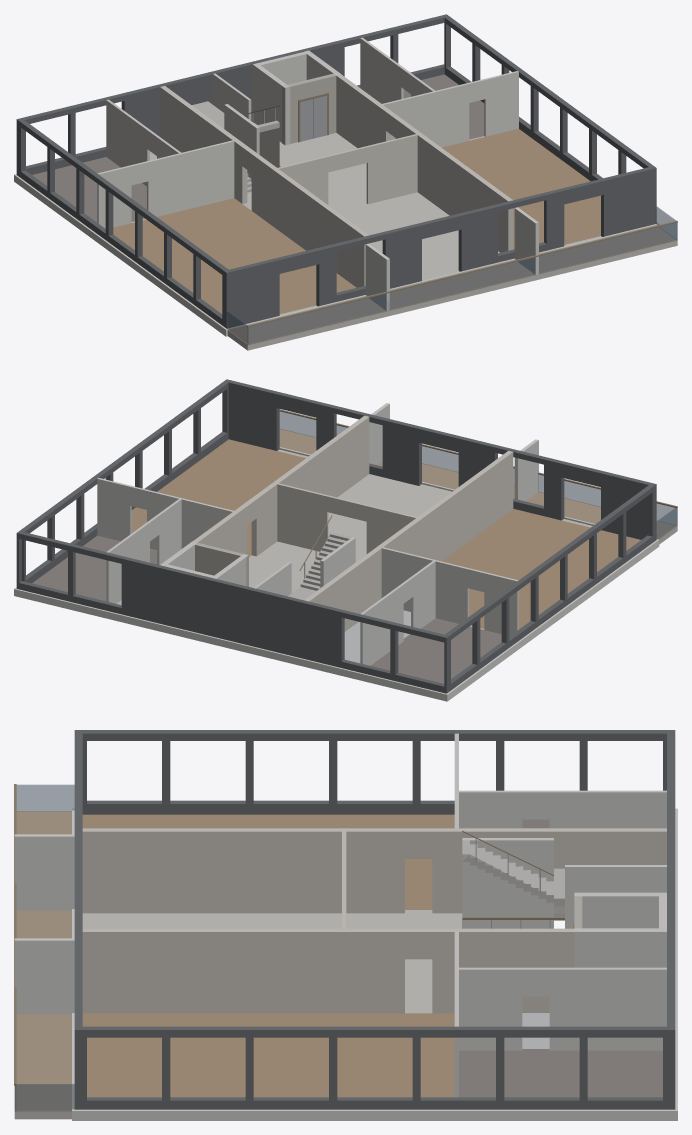
The model's file is condo-floor.zfix-v2.lod0.glb.
3 views of the same model, one above another, from view 1: azimuth 30°, elevation 25°; view 2: azimuth 150°, elevation 25°; view 3: azimuth 270°, elevation 25° (orthographic). The views are drawn at different scales.
Parts seen in each view (by area): view 1: condo-floor; view 2: condo-floor; view 3: condo-floor.
Part boxes in pixels (x1,y1,x2,y2): condo-floor: (14,14,677,350); condo-floor: (14,379,677,701); condo-floor: (14,730,677,1120).
Size of the model in its own units: 26.2 by 4.89 by 24.32.
